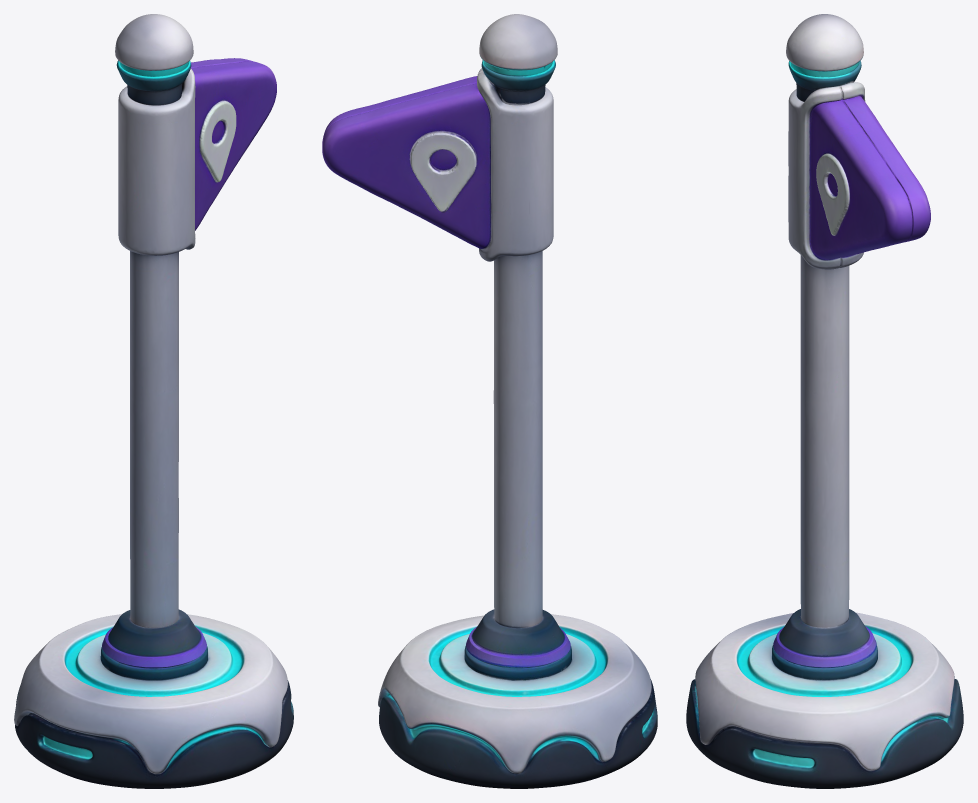
The model's file is destination-flag-lite.glb.
3 renders of one model, left to right at view 1: azimuth 30°, elevation 25°; view 2: azimuth 150°, elevation 25°; view 3: azimuth 270°, elevation 25°, orthographic.
Bounding box in the file's own units: 0.397 × 0.9789 × 0.3432.
Materials: 1 (1 with a texture image).
